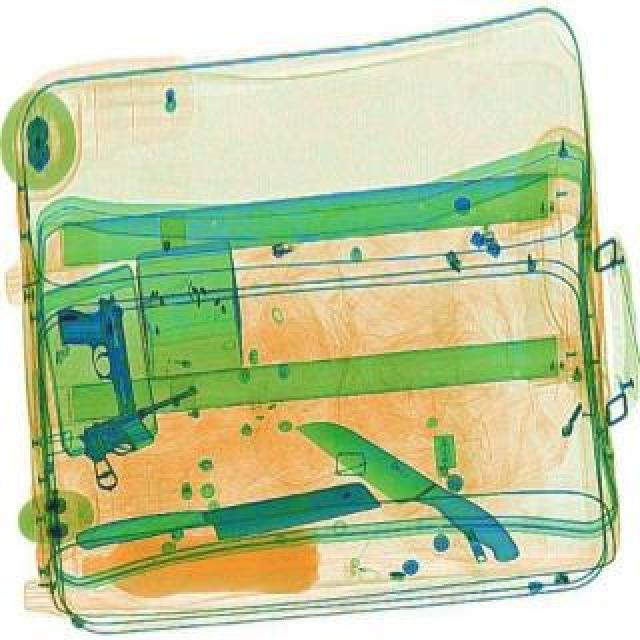gun: (56, 380, 224, 496), (50, 290, 138, 422)
knife: (286, 394, 534, 574), (74, 474, 386, 562)
